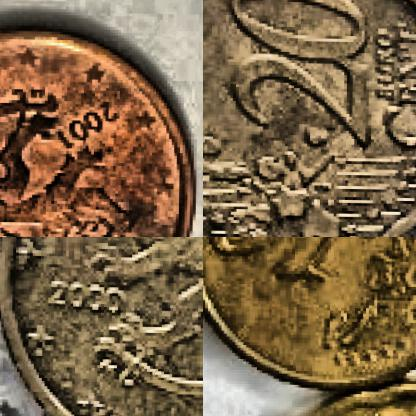coin: (203, 0, 415, 236), (0, 17, 197, 236), (0, 237, 202, 415), (203, 237, 415, 393)
